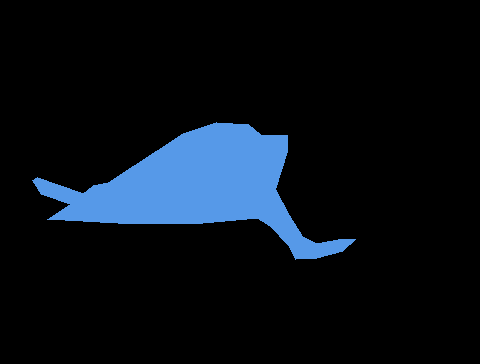Airplane: (32, 122, 355, 260)
